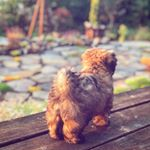puppy: (41, 44, 119, 147)
